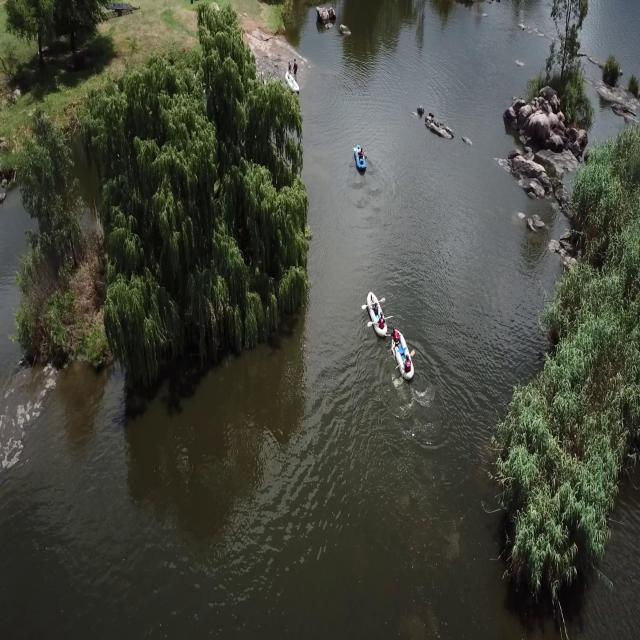kayak: (361, 292, 390, 334), (392, 326, 413, 383), (352, 146, 368, 175)
